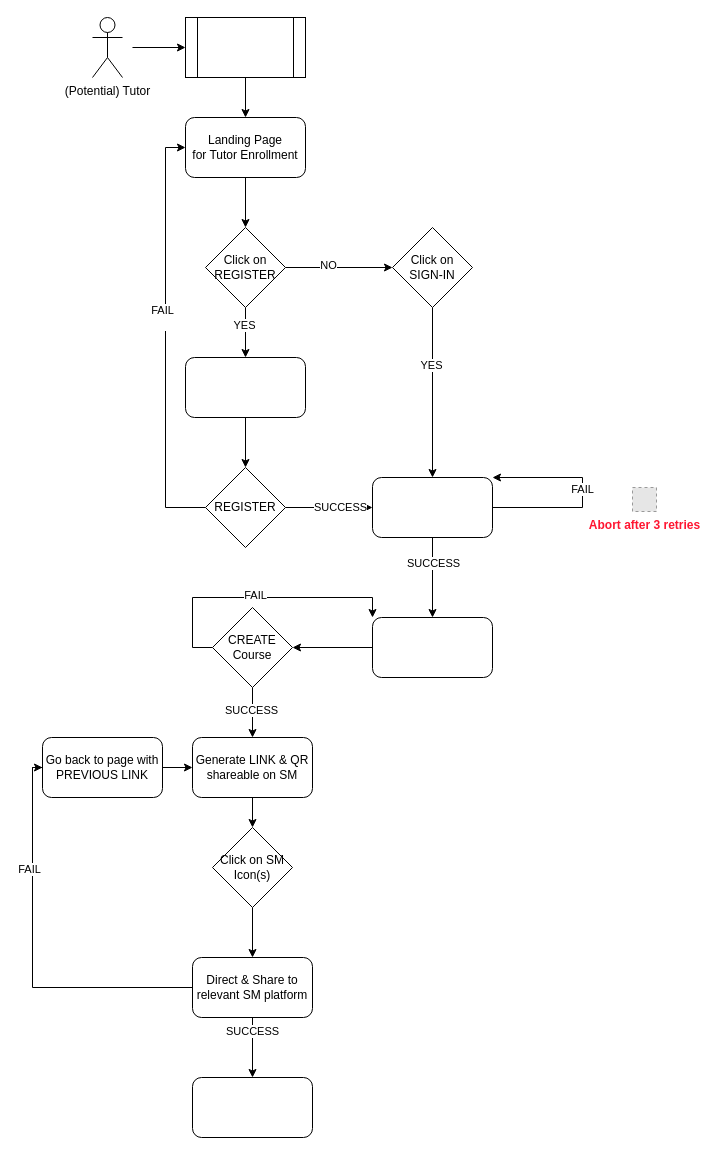
Image size: 717x1155. Some labels were removed from this diagram. Grey dashed boxes stand in for pictures. Here are the shapes that lost their labels. From the top down, the centre of each, then its label:
At [245,47]: "Click on Marketing Link".
At [245,387]: "Direct to USER REGISTRATION Page".
At [432,507]: "Initiate SIGN-IN Process".
At [432,647]: "Q&A Session/Course Creation Landing Page".
At [252,1107]: "Stay on SM Platform".
